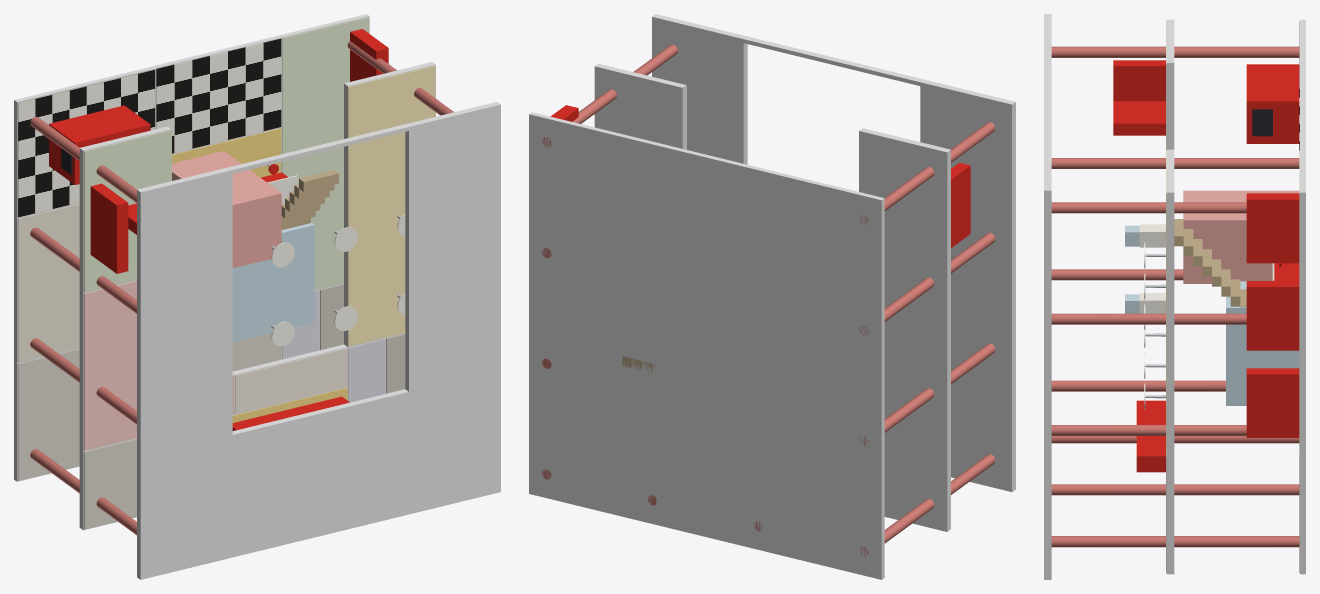
The model's file is interior.glb.
The picture shows the model from 3 angles, left to right: view 1: azimuth 30°, elevation 25°; view 2: azimuth 150°, elevation 25°; view 3: azimuth 270°, elevation 25°; orthographic projection.
Visible parts, largest first — view 1: 屋根(コの字), 2F_ダイナー席, 1F_物販展示, 1F_市松_入口ホール, 1F_スタンディング, 1F_市松_エントランス, 2F_キャラ展示, 1F_搬入通用口, FACTORYガラス, 2F_グッズショップ, 大ぬいぐるみ, 2F 床(コの字) (+20 smaller); view 2: 1F 床, 屋根(コの字), 2F 床(コの字), 2F_グッズ棚_2, 柱_1, 柱_4, 柱_3, 柱_2, 柱_10; view 3: 2F 床(コの字), 大ぬいぐるみ, 屋根(コの字), 物販棚_3, 車顔ショーケース, 物販棚_1, 物販棚_2, 1F 床, FACTORYガラス, 柱_4, 柱_6, 柱_7 (+15 smaller).
Boxes of the visible parts, left/top/right/bottom form: 屋根(コの字): left=137, top=102, right=500, bottom=579; 2F_ダイナー席: left=348, top=65, right=435, bottom=346; 1F_物販展示: left=282, top=17, right=369, bottom=289; 1F_市松_入口ホール: left=156, top=38, right=281, bottom=153; 1F_スタンディング: left=17, top=203, right=79, bottom=362; 1F_市松_エントランス: left=17, top=69, right=155, bottom=217; 2F_キャラ展示: left=84, top=281, right=234, bottom=450; 1F_搬入通用口: left=17, top=348, right=79, bottom=480; FACTORYガラス: left=232, top=222, right=314, bottom=342; 2F_グッズショップ: left=84, top=130, right=171, bottom=292; 大ぬいぐるみ: left=172, top=151, right=281, bottom=268; 2F 床(コの字): left=79, top=62, right=435, bottom=530; 1F 床: left=529, top=112, right=884, bottom=579; 屋根(コの字): left=652, top=14, right=1015, bottom=491; 2F 床(コの字): left=594, top=63, right=950, bottom=531; 2F_グッズ棚_2: left=951, top=162, right=970, bottom=247; 柱_1: left=859, top=454, right=995, bottom=556; 柱_4: left=860, top=122, right=995, bottom=224; 柱_3: left=859, top=232, right=995, bottom=334; 柱_2: left=860, top=343, right=995, bottom=446; 柱_10: left=542, top=44, right=677, bottom=147; 2F 床(コの字): left=1166, top=19, right=1174, bottom=574; 大ぬいぐるみ: left=1183, top=190, right=1299, bottom=283; 屋根(コの字): left=1044, top=14, right=1051, bottom=579; 物販棚_3: left=1246, top=193, right=1299, bottom=263; 車顔ショーケース: left=1246, top=64, right=1299, bottom=143; 物販棚_1: left=1246, top=368, right=1299, bottom=437; 物販棚_2: left=1246, top=281, right=1299, bottom=350; 1F 床: left=1300, top=19, right=1305, bottom=574; FACTORYガラス: left=1226, top=281, right=1299, bottom=405; 柱_4: left=1051, top=46, right=1299, bottom=57; 柱_6: left=1051, top=484, right=1299, bottom=495; 柱_7: left=1051, top=536, right=1299, bottom=547.
Size of the model in its own units: 14300 by 14700 by 8960.
Materials: 71 (2 with a texture image).
